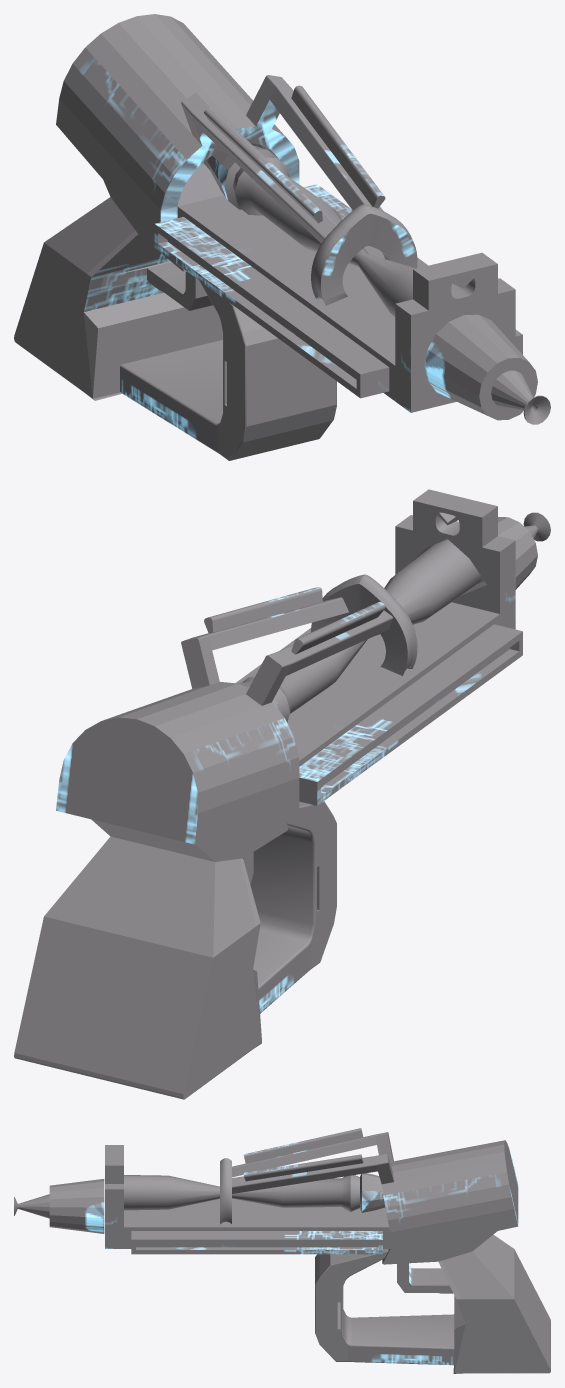
File: electric_rifle.fbx
3 renders of one model, top to bottom at view 1: azimuth 30°, elevation 25°; view 2: azimuth 150°, elevation 25°; view 3: azimuth 270°, elevation 25°, orthographic. The views are drawn at different scales.
Visible parts, largest first — view 1: electric gun; view 2: electric gun; view 3: electric gun.
Boxes of the visible parts, x1,y1,x2,y2 form: electric gun: [14, 14, 550, 460]; electric gun: [14, 489, 550, 1099]; electric gun: [14, 1128, 550, 1373].
Size of the model in its own units: 40 by 76.67 by 180.
